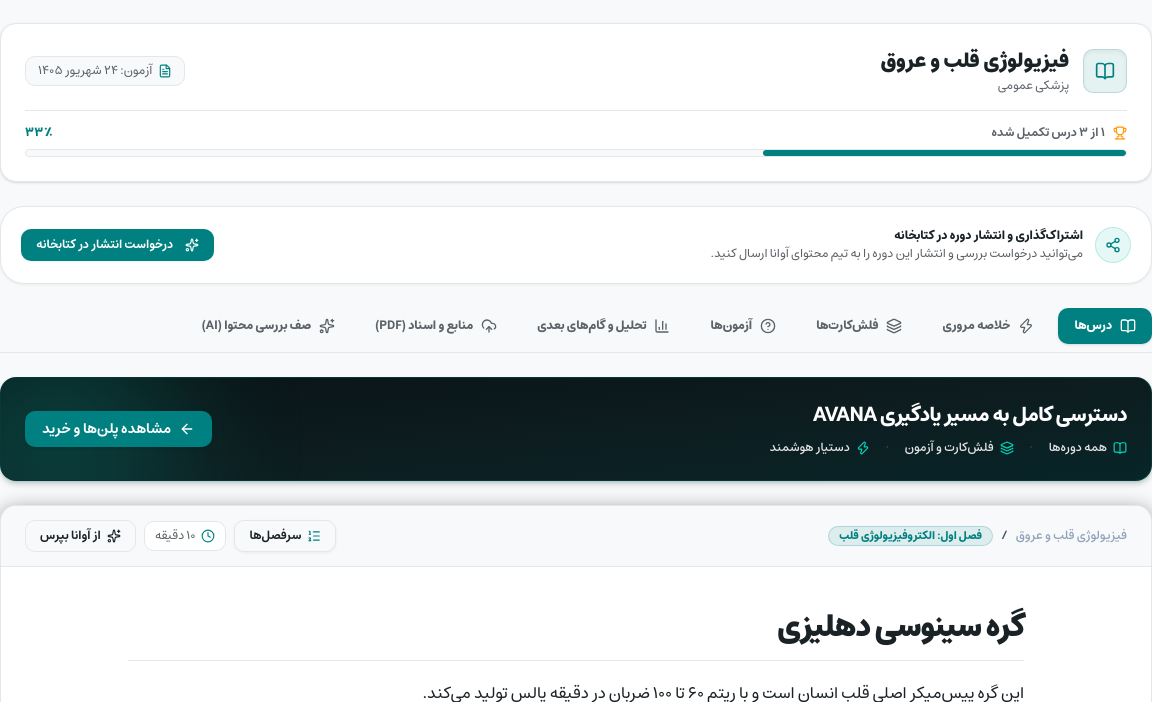
Test case: Course Lesson Study Page UI/UX Refinements › handles module accordion toggling and lesson selection with drawer closing
The width and height of the screenshot is (1152, 702).
Expected: the heading "گره سینوسی دهلیزی" is shown, [128,607,1024,661]
Open drawer
Click the button with aria-label "نمایش سرفصل‌های دوره" at (286, 536), box [234,520,336,552]
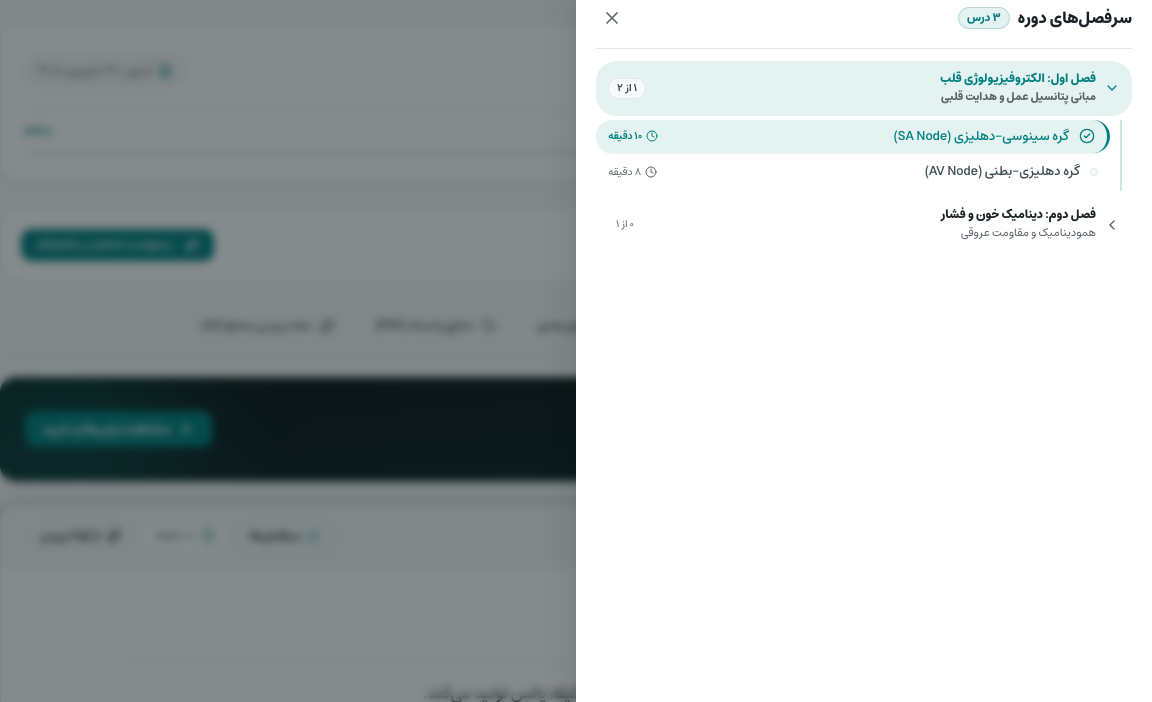
Expected: the text "قانون استارلینگ قلب" is not shown
Expected: the text "فصل دوم: دینامیک خون و فشار" is shown, [940,204,1096,225]
Click the button "فصل دوم: دینامیک خون و فشار همودینامیک و مقاومت عروقی ۰ از ۱" at (1018, 215), box [596,197,1132,252]
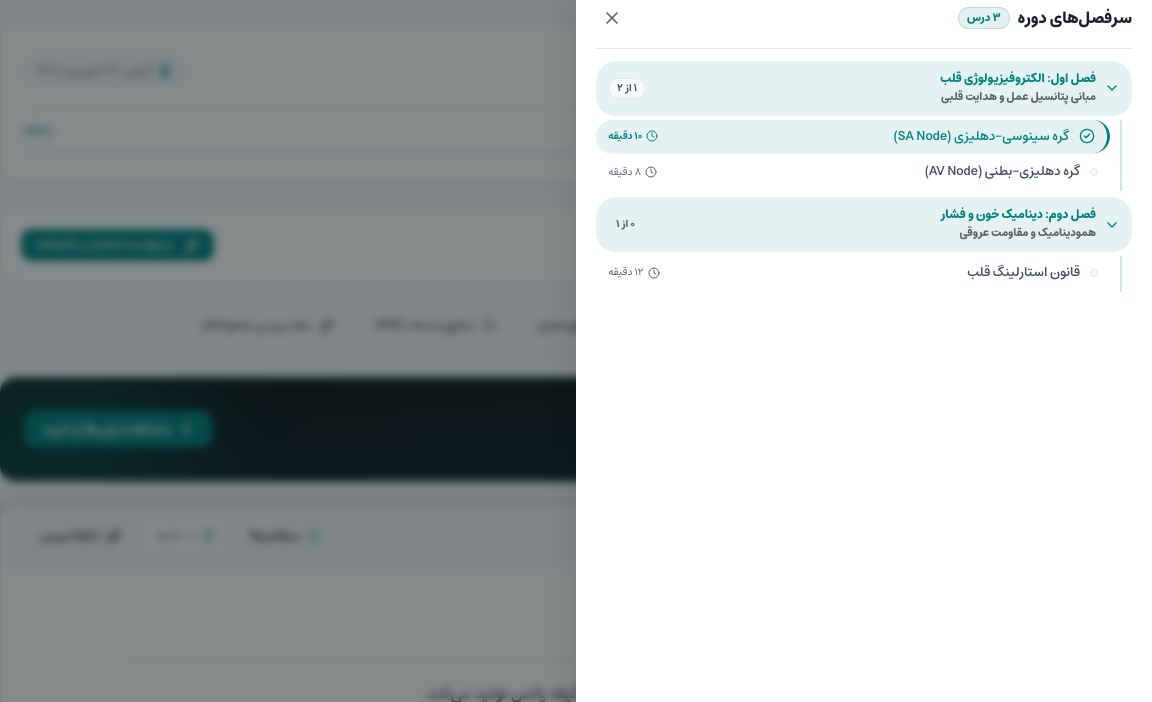
Expected: the button "قانون استارلینگ قلب ۱۲ دقیقه" is shown
Click the button "قانون استارلینگ قلب ۱۲ دقیقه" at (1024, 272), box [596,256,1110,290]
(page scrolled)
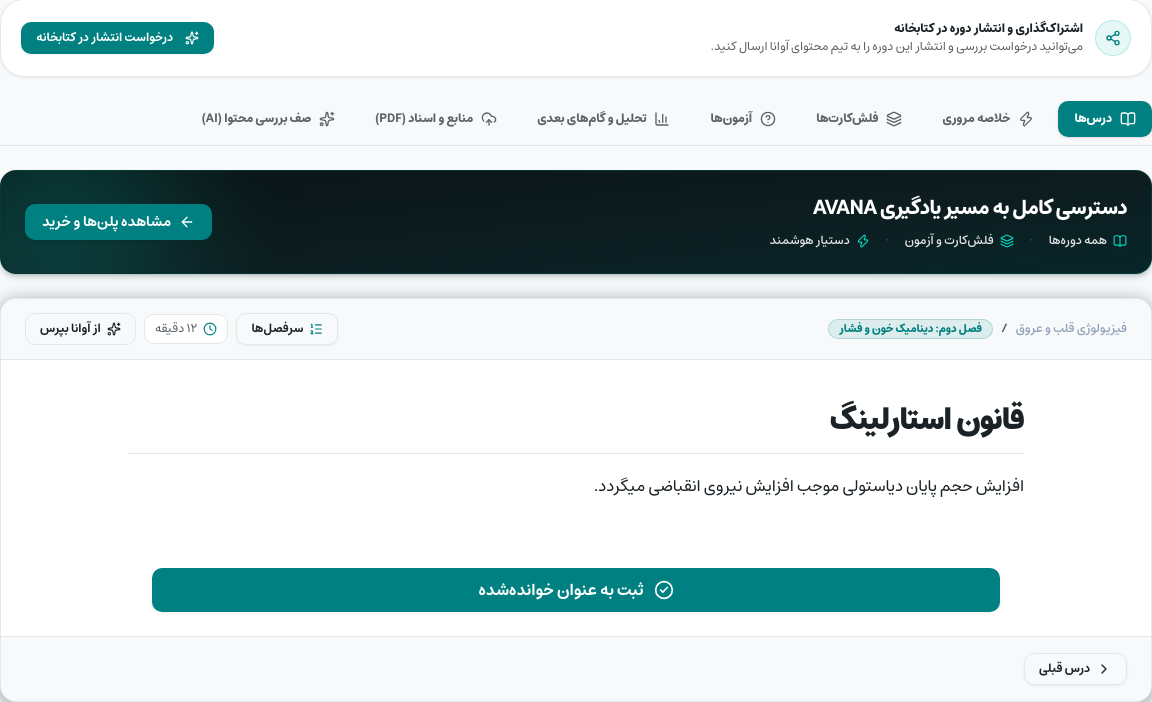
Expected: the heading "سرفصل‌های دوره" is gone
Expected: the text "افزایش حجم پایان دیاستولی موجب افزایش نیروی انقباضی میگردد." is shown, [594,472,1024,500]
